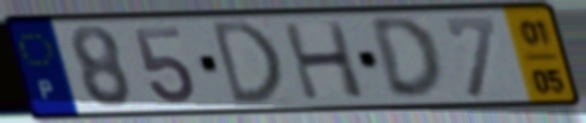5: (128, 24, 198, 106)
7: (441, 13, 503, 100)
8: (68, 23, 136, 111)
D: (208, 17, 287, 109), (366, 14, 447, 103)
H: (278, 19, 369, 103)
